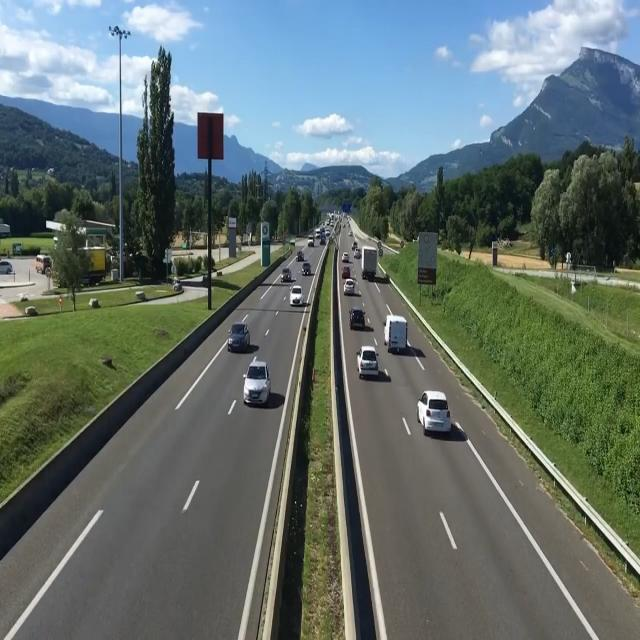car: (417, 388, 455, 440), (244, 357, 273, 408), (385, 311, 412, 361), (358, 345, 384, 384), (226, 320, 251, 355), (290, 282, 307, 313), (351, 302, 369, 330), (341, 273, 356, 297), (298, 257, 314, 276)
truck: (361, 243, 378, 282)
